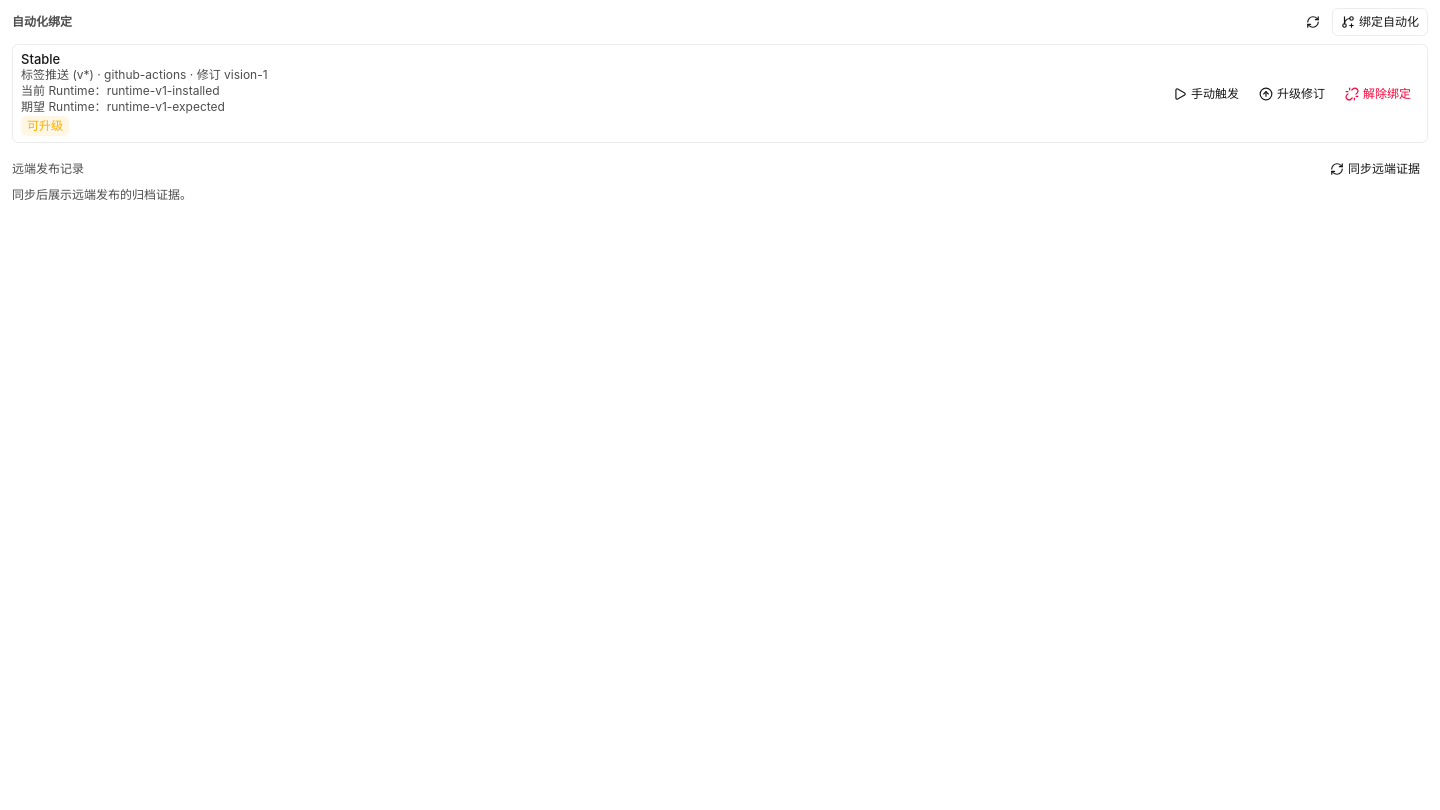
Test: AutomationBindingsSection › shows runtime revision status and switches only after the projection diff is confirmed
The width and height of the screenshot is (1440, 810).
Expected: the list item with test id "automation-binding-binding-1" shows "当前 Runtime：runtime-v1-installed", [12,44,1428,143]
Expected: the list item with test id "automation-binding-binding-1" shows "期望 Runtime：runtime-v1-expected", [12,44,1428,143]
Click the button "升级修订".
click(1292, 94)  # box [1251,80,1333,108]
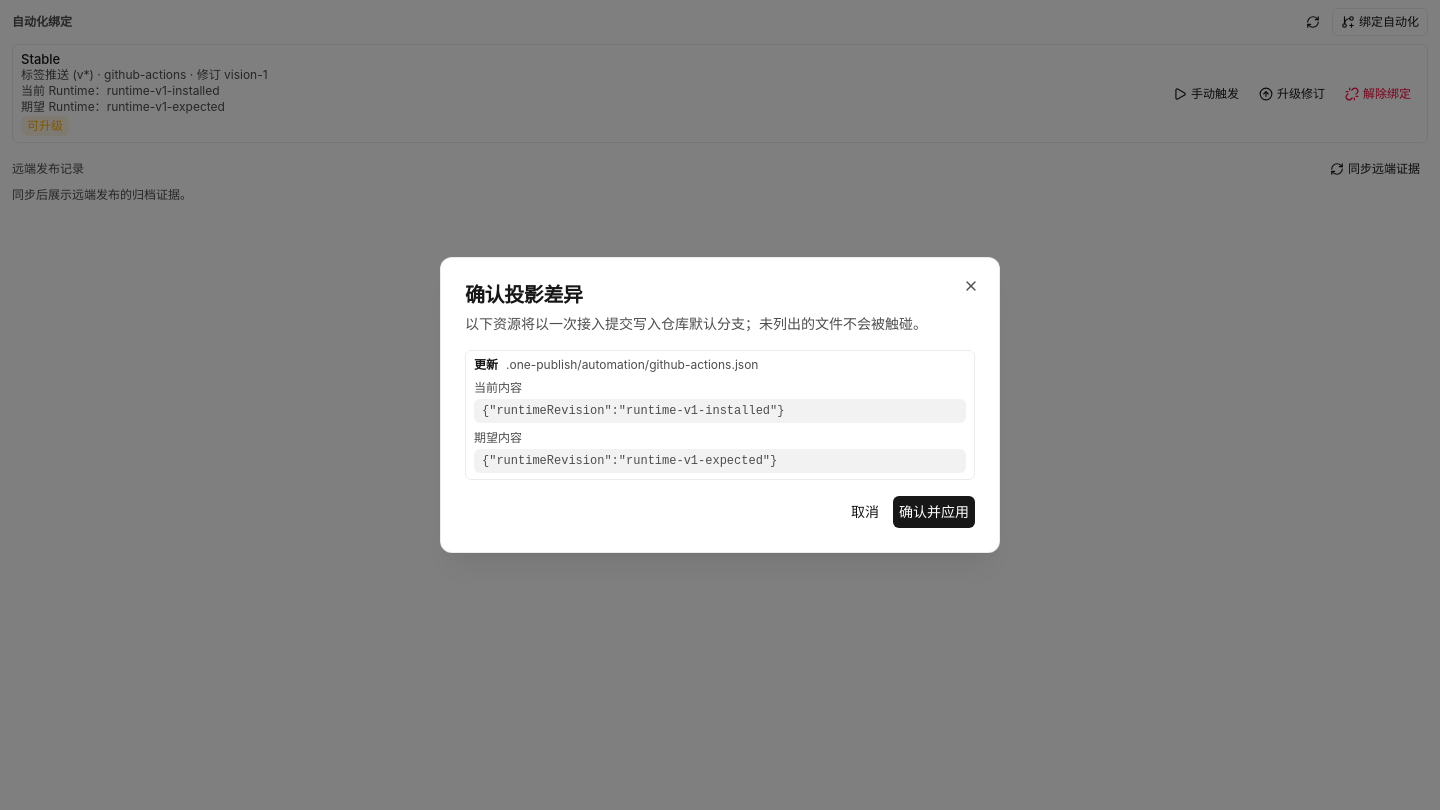
Now the list with test id "automation-preview-changes" shows "runtime-v1-installed", box [482,404,784,418]
Now the list with test id "automation-preview-changes" shows "runtime-v1-expected", box [482,454,777,468]
Click the button with test id "automation-confirm-apply".
click(934, 512)  # box [893,496,975,528]
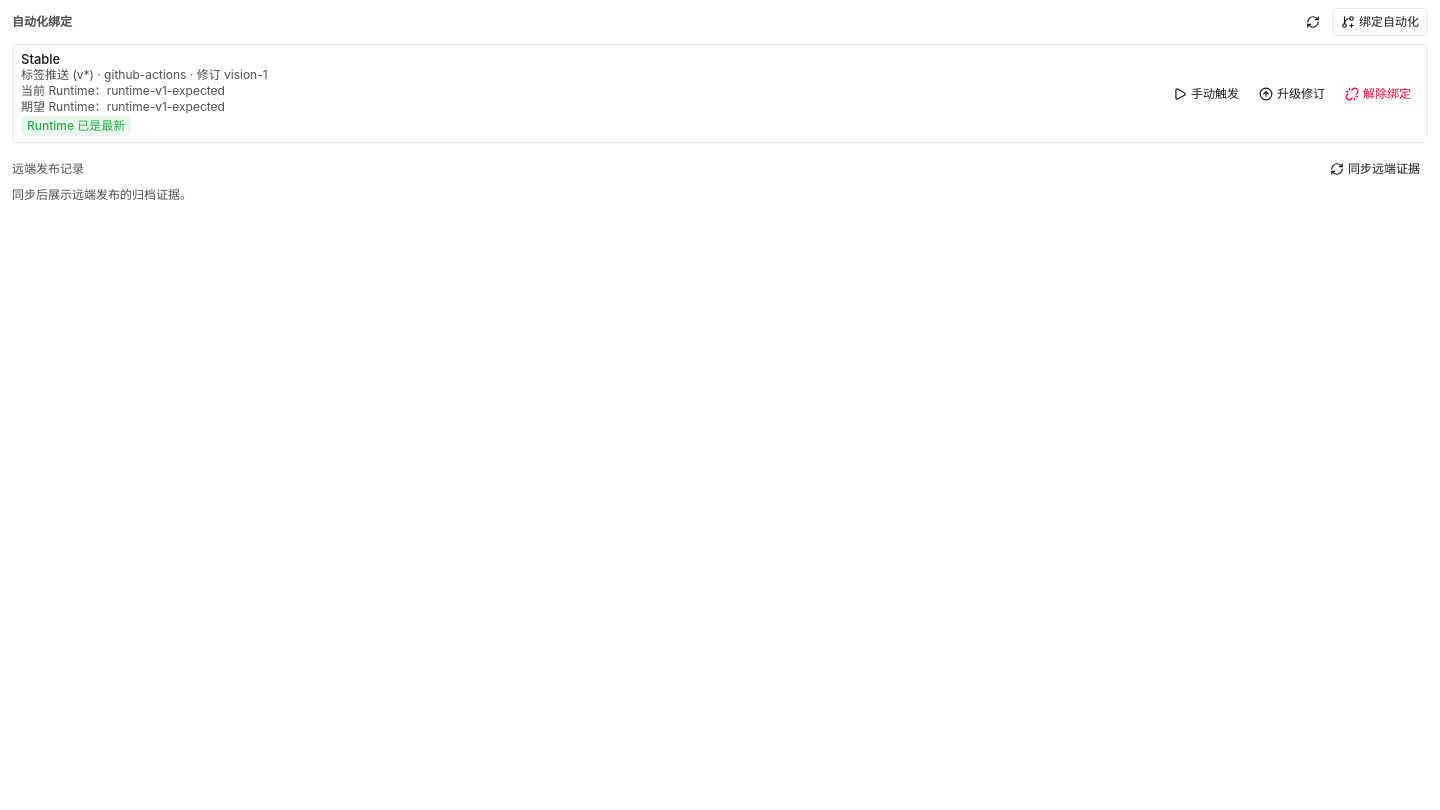
Now the list item with test id "automation-binding-binding-1" shows "Runtime 已是最新", box [27,118,125,133]
